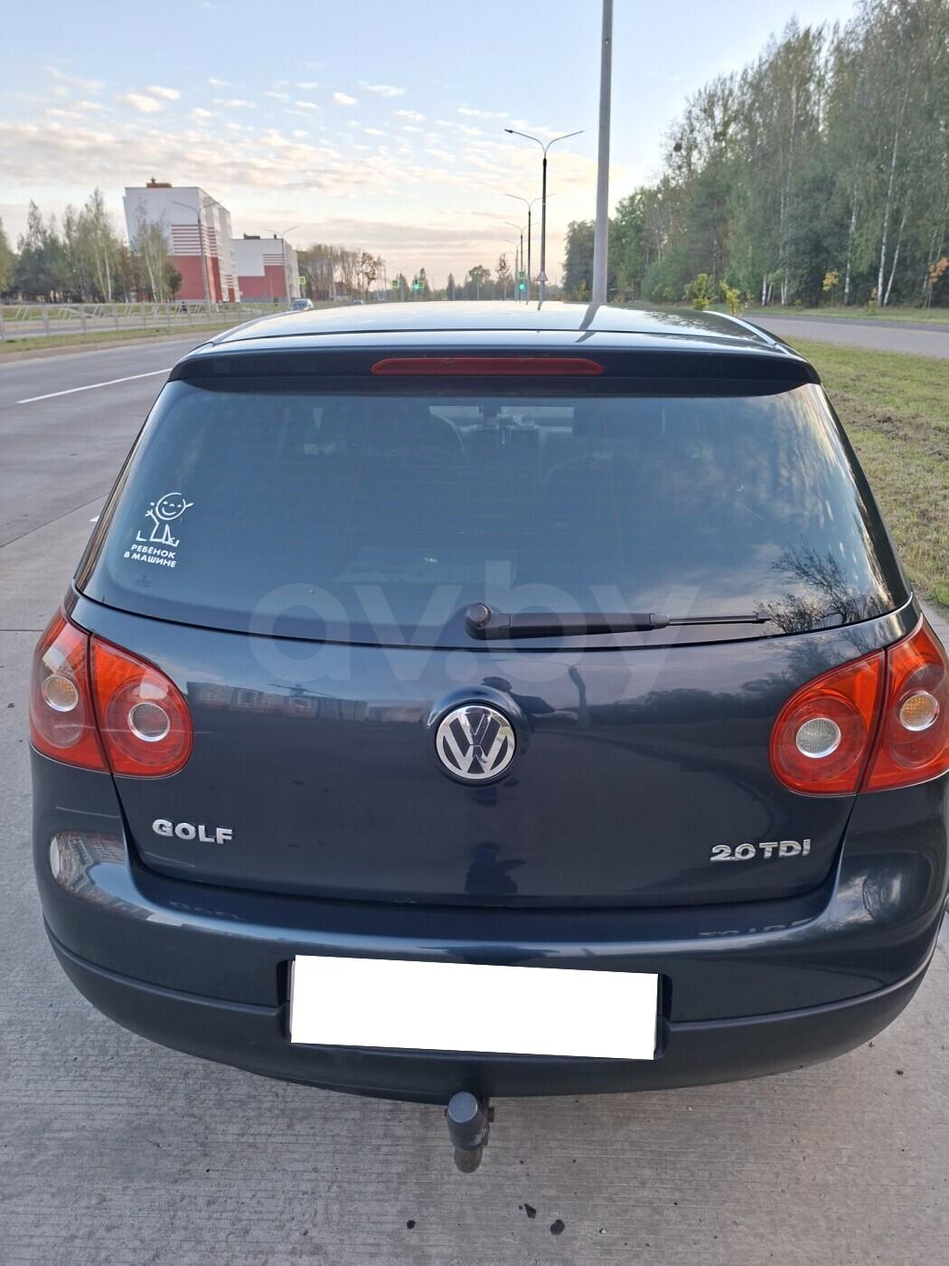Golf_2003-2009: (29, 297, 949, 1101)
